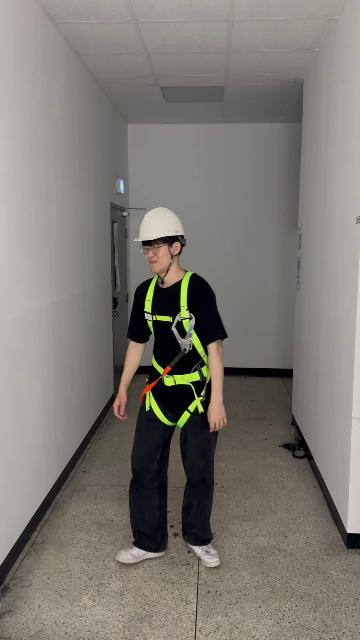helmet_worn: (136, 206, 188, 247)
shoe_not_worn: (114, 542, 169, 567), (187, 536, 223, 571)
vest_worn: (142, 275, 219, 427)
